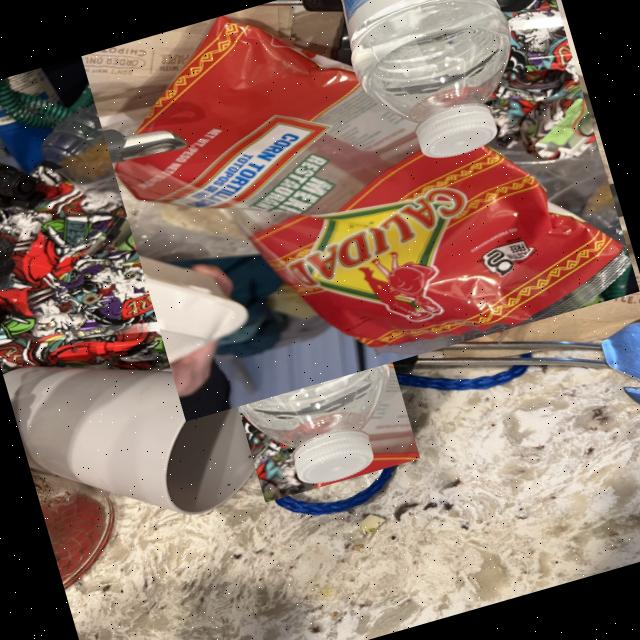Clear plastic bottle: (212, 182, 389, 486)
Other plastic: (115, 16, 631, 355)
